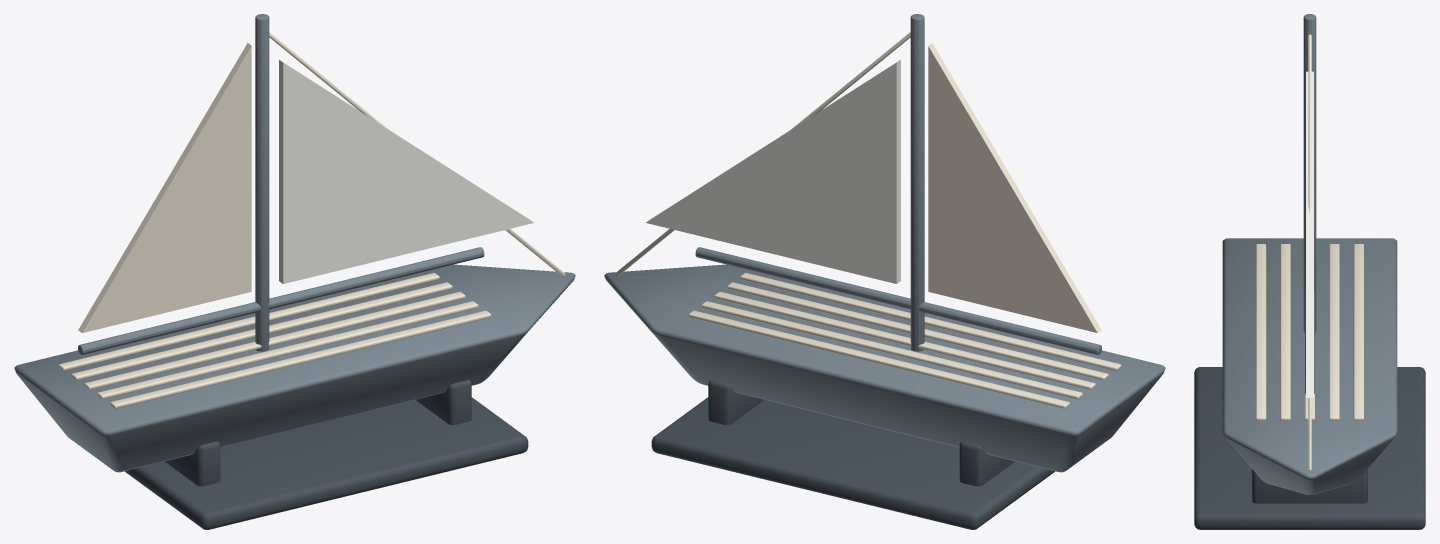
The model's file is model-sailboat.glb.
3 views of the same model, side by side, from view 1: azimuth 30°, elevation 25°; view 2: azimuth 150°, elevation 25°; view 3: azimuth 270°, elevation 25° (orthographic). The views are drawn at different scales.
Parts seen in each view (by area): view 1: model-sailboat; view 2: model-sailboat; view 3: model-sailboat.
Boxes of the visible parts, left/top/right/bottom form: model-sailboat: left=14, top=14, right=575, bottom=529; model-sailboat: left=604, top=14, right=1165, bottom=529; model-sailboat: left=1194, top=14, right=1425, bottom=529.
Size of the model in its own units: 0.44 by 0.36 by 0.18.
